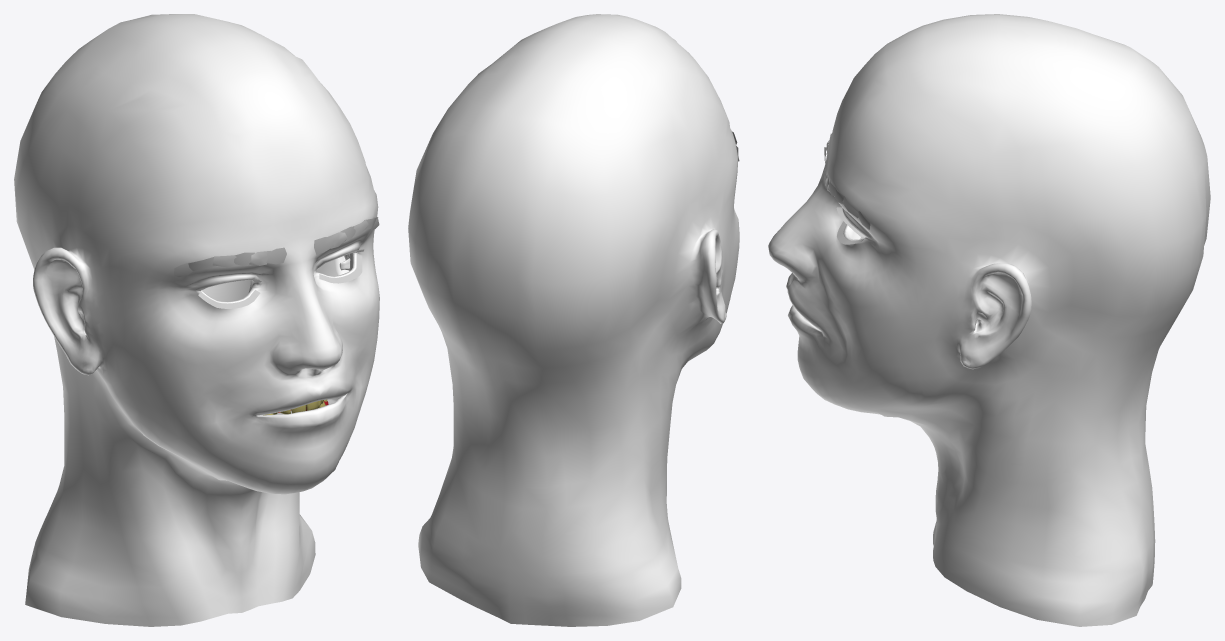
Rendered from mouthShrugUpper.obj.
3 renders of one model, left to right at view 1: azimuth 30°, elevation 25°; view 2: azimuth 150°, elevation 25°; view 3: azimuth 270°, elevation 25°, orthographic. The views are drawn at different scales.
Visible parts, largest first — view 1: FaceMesh_Plane.003; view 2: FaceMesh_Plane.003; view 3: FaceMesh_Plane.003.
Boxes of the visible parts, left/top/right/bottom form: FaceMesh_Plane.003: left=14, top=14, right=379, bottom=626; FaceMesh_Plane.003: left=408, top=14, right=739, bottom=626; FaceMesh_Plane.003: left=768, top=14, right=1210, bottom=626.
Bounding box in the file's own units: 1.54 × 2.71 × 1.94.
5 materials, 1 textured.
